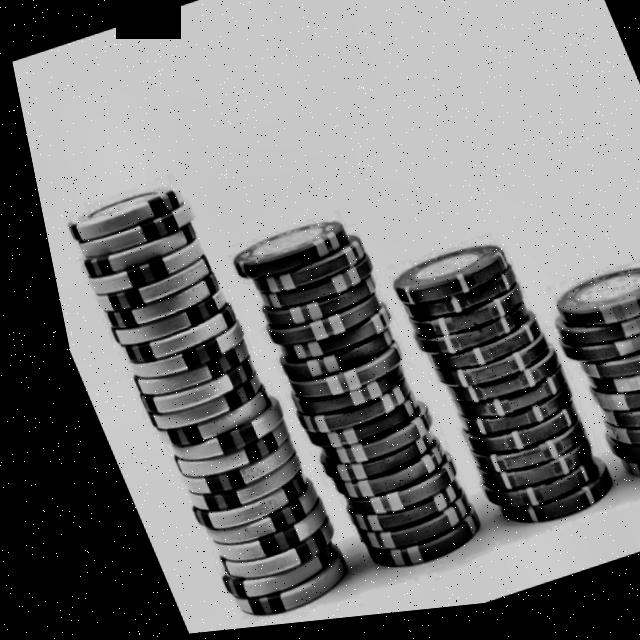Chip: (36, 153, 340, 639), (205, 195, 474, 594), (366, 228, 608, 553), (518, 260, 640, 512)
